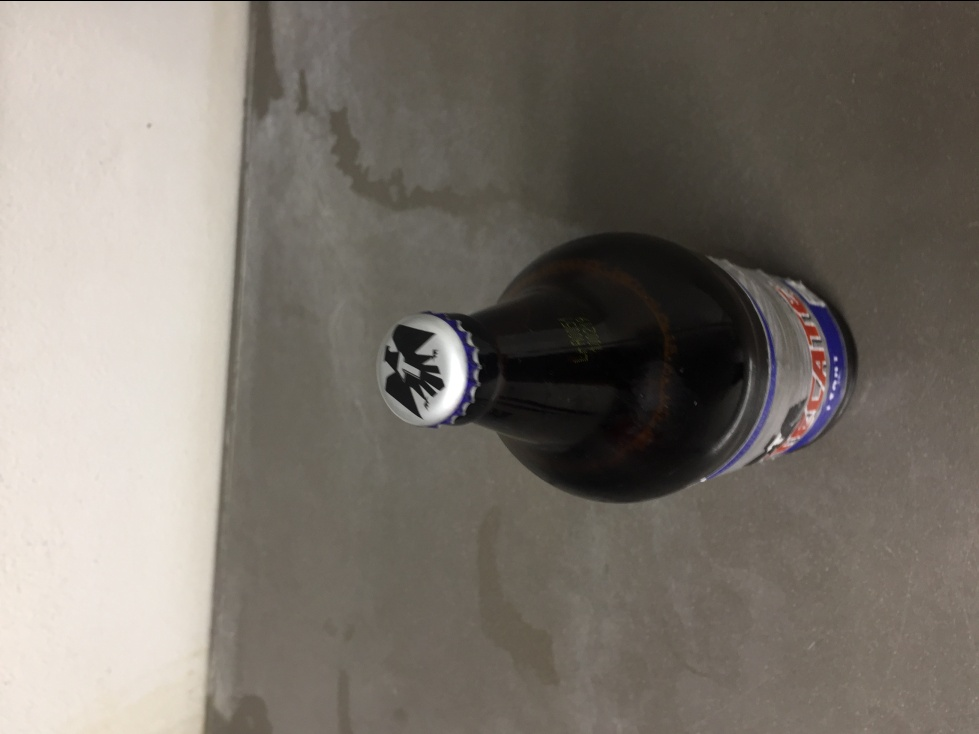tecateC: (378, 231, 860, 505)
